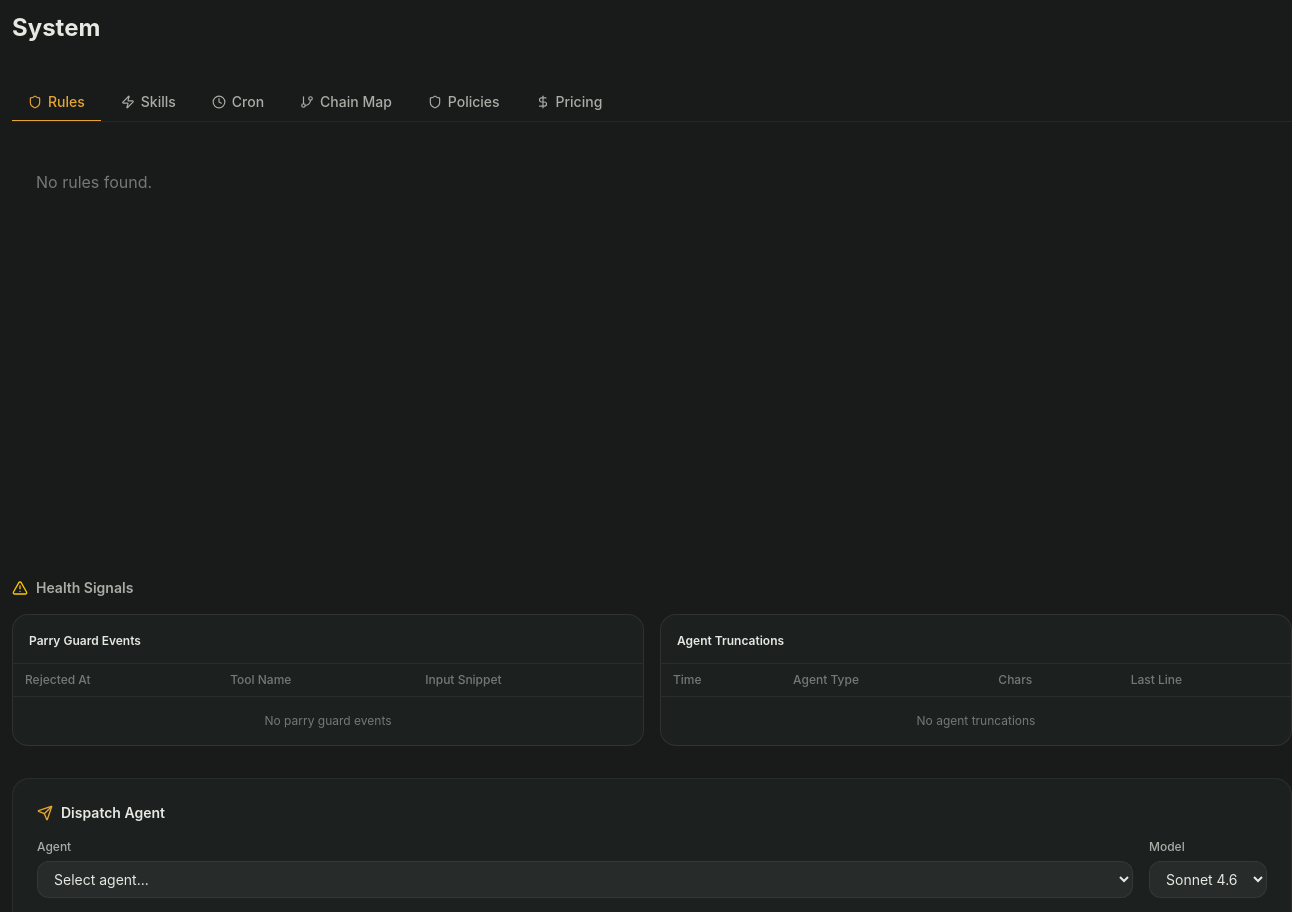
SystemView — PricingTab rate card › shows "No pricing data" when pricing is empty
Click the button "Pricing": (569, 103) [520, 84, 618, 122]
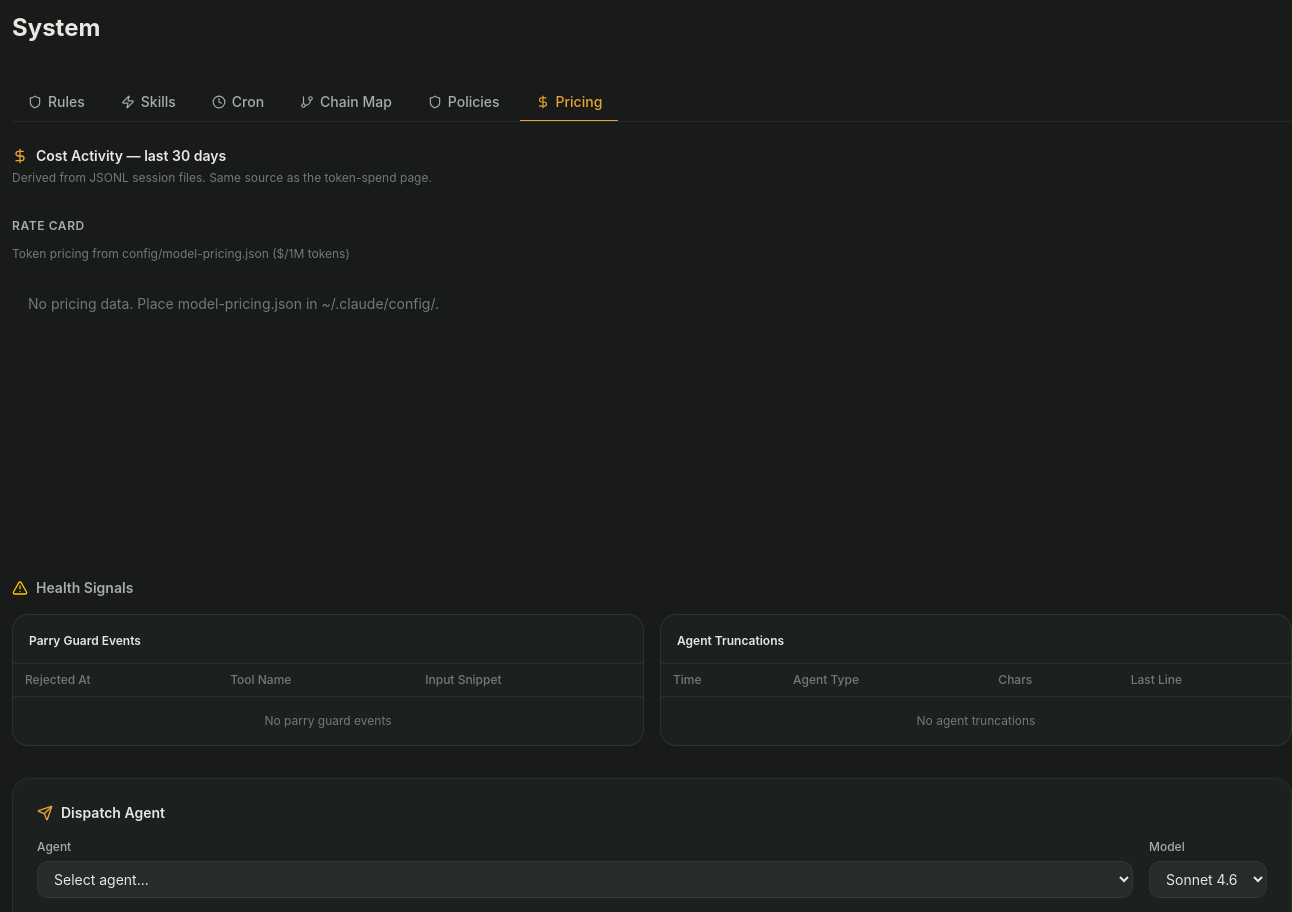
Check: the text "No pricing data" is shown, box [28, 295, 439, 312]
